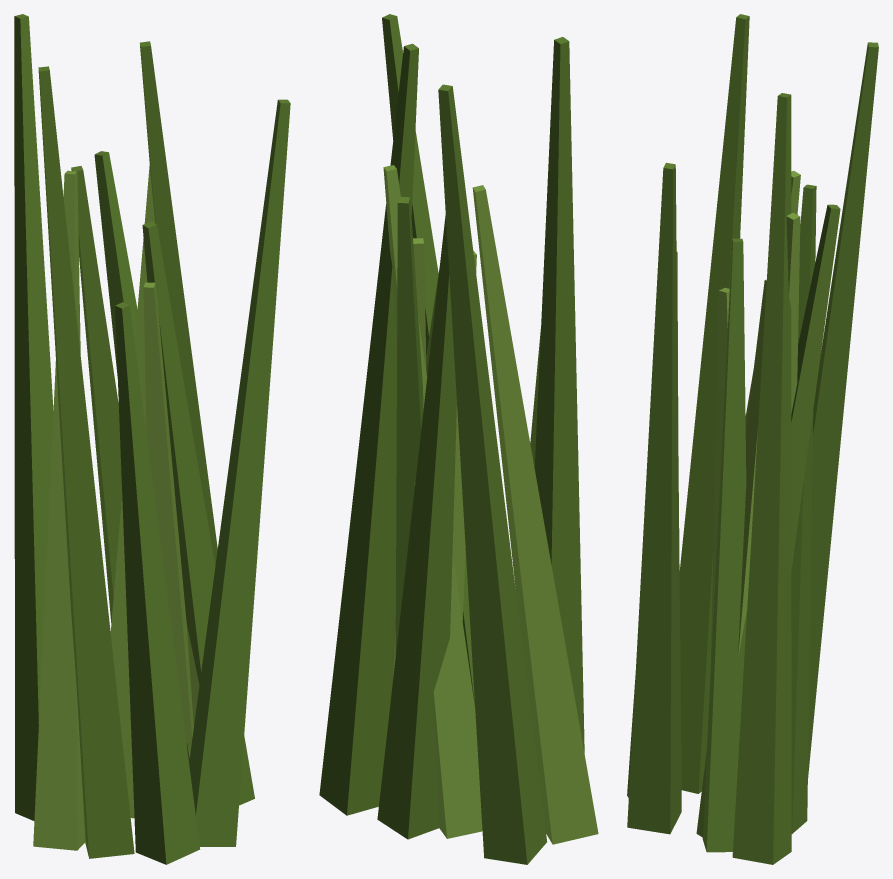
The model's file is rice_clump.glb.
The picture shows the model from 3 angles, left to right: view 1: azimuth 30°, elevation 25°; view 2: azimuth 150°, elevation 25°; view 3: azimuth 270°, elevation 25°; orthographic projection. The views are drawn at different scales.
Parts seen in each view (by area): view 1: RiceClump; view 2: RiceClump; view 3: RiceClump.
Part boxes in pixels (x1=…): RiceClump: x1=14, y1=14, x2=290, y2=864; RiceClump: x1=319, y1=14, x2=598, y2=864; RiceClump: x1=627, y1=14, x2=878, y2=864.
Bounding box in the file's own units: 0.2996 × 0.92 × 0.2796.
